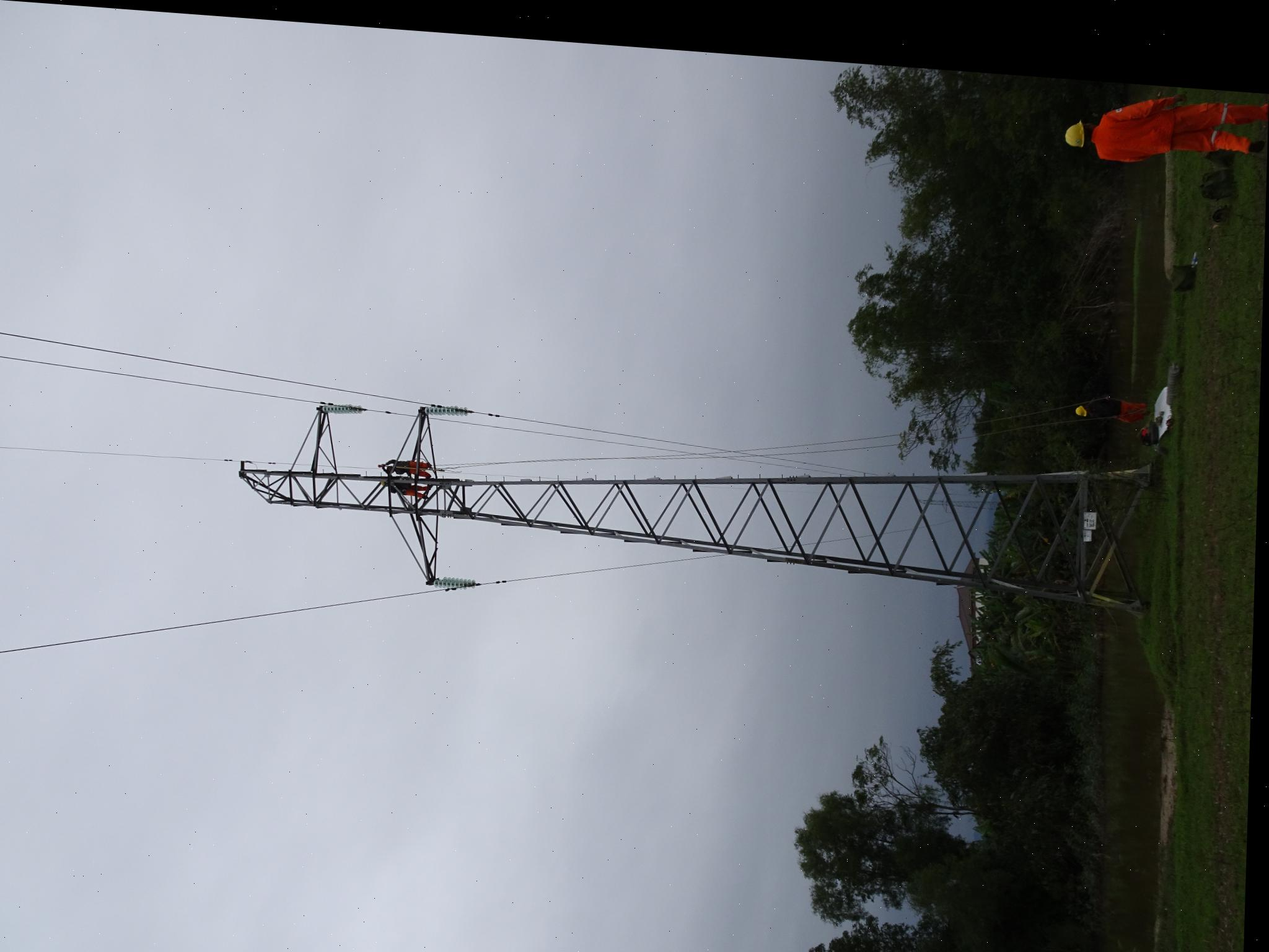tower: (321, 25, 565, 755)
